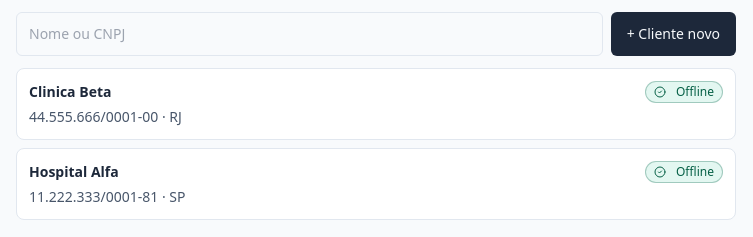
Test: ClientesPage › lista clientes locais quando offline e filtra por nome
The image size is (753, 237).
Expected: the text "Hospital Alfa" is shown, [29, 162, 119, 182]
Expected: the text "Clinica Beta" is shown, [29, 82, 111, 102]
In the search field: (309, 34) [16, 12, 603, 56], type "beta"
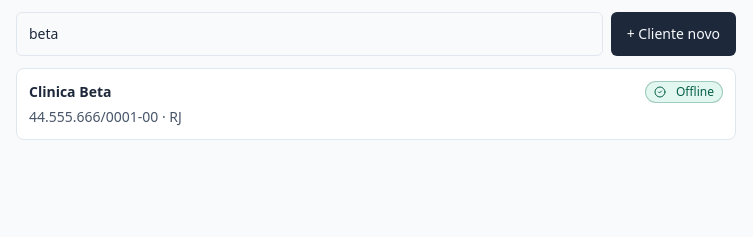
Expected: the text "Clinica Beta" is shown, [29, 82, 111, 102]
Expected: the link "Hospital Alfa" is gone
